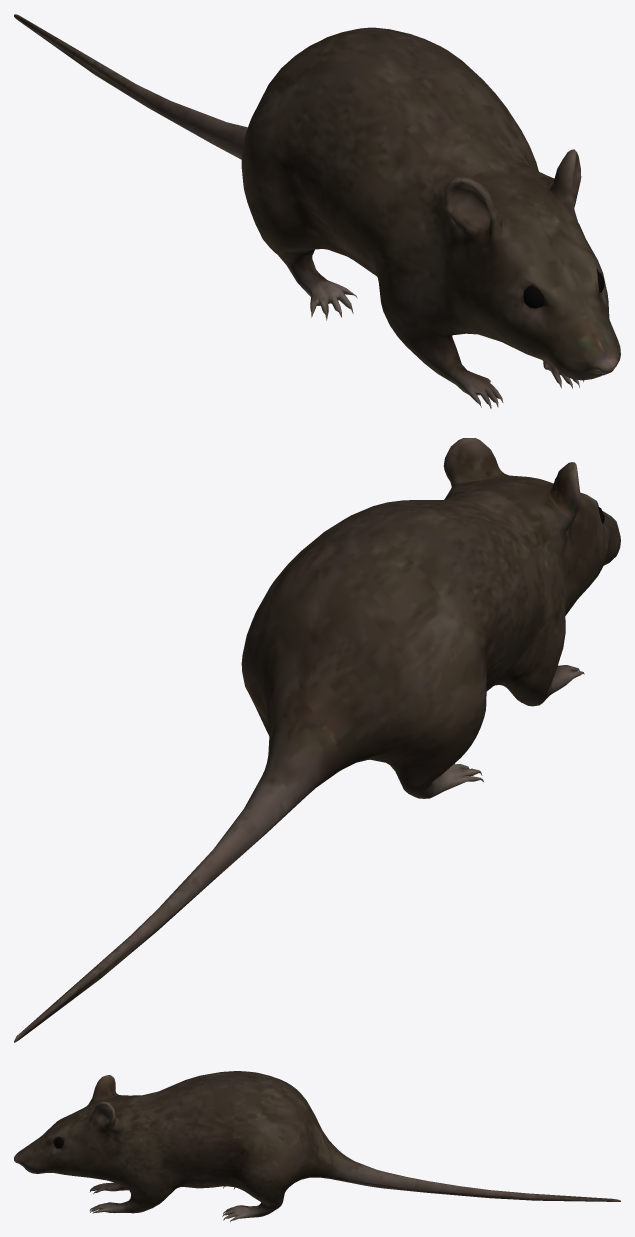
The model's file is street_rat.glb.
The picture shows the model from 3 angles, top to bottom: view 1: azimuth 30°, elevation 25°; view 2: azimuth 150°, elevation 25°; view 3: azimuth 270°, elevation 25°; orthographic projection. The views are drawn at different scales.
Parts seen in each view (by area): view 1: street_rat; view 2: street_rat; view 3: street_rat.
Part boxes in pixels (x1,y1,x2,y2): street_rat: [14, 14, 620, 409]; street_rat: [14, 438, 620, 1042]; street_rat: [14, 1071, 620, 1222].
Size of the model in its own units: 0.0319 by 0.0338 by 0.1483.
1 material, 1 textured.
